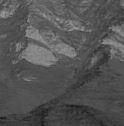Target: (70, 66, 81, 75)
